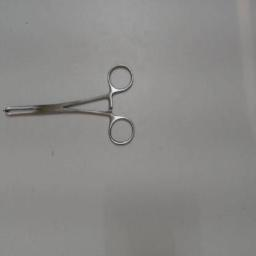Allis Tissue Forceps: (2, 60, 138, 152)
